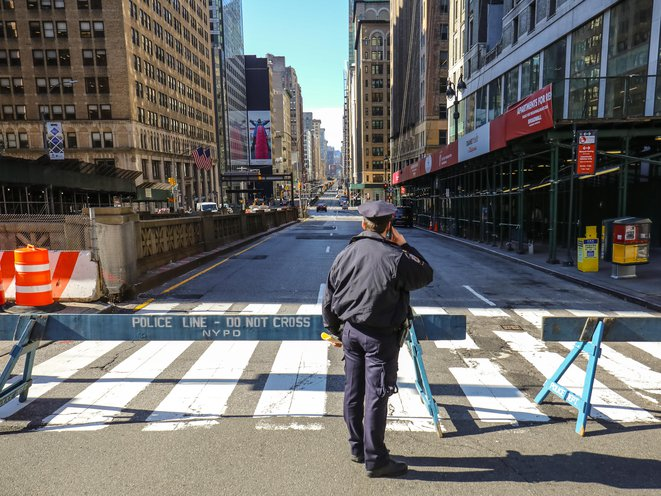person: (319, 193, 440, 482)
